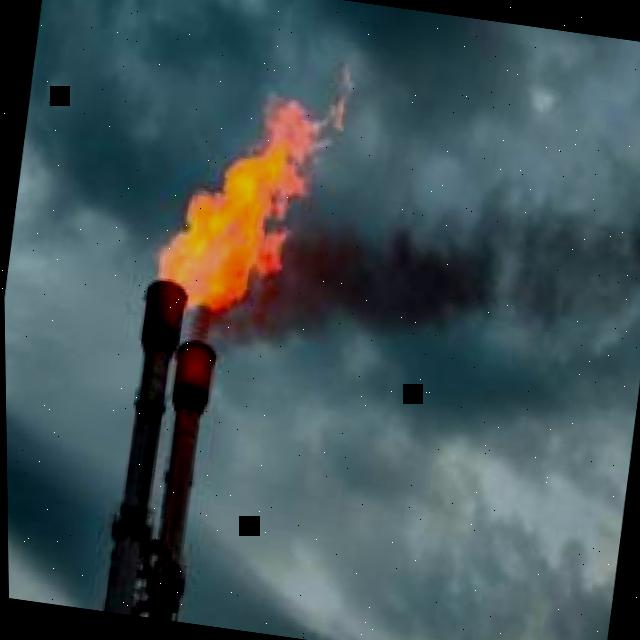fire: (157, 70, 352, 312)
smoke: (183, 128, 640, 359)
